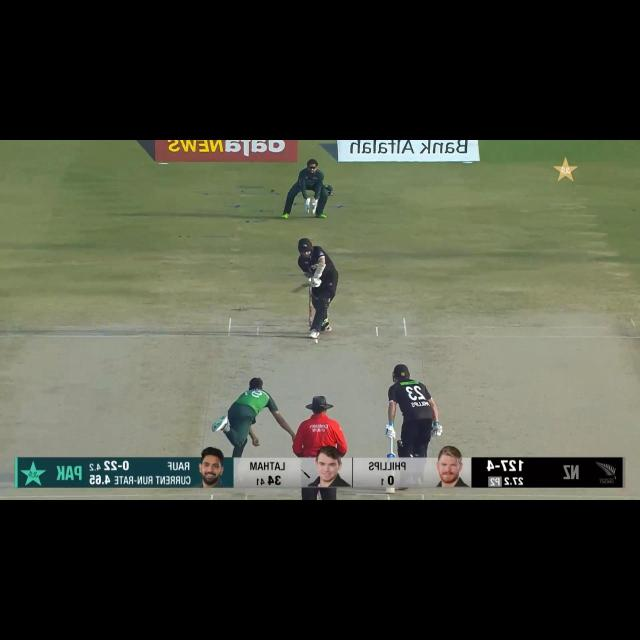bat: (291, 281, 314, 294), (387, 453, 396, 458)
toe: (385, 486, 397, 495), (292, 288, 301, 294)
